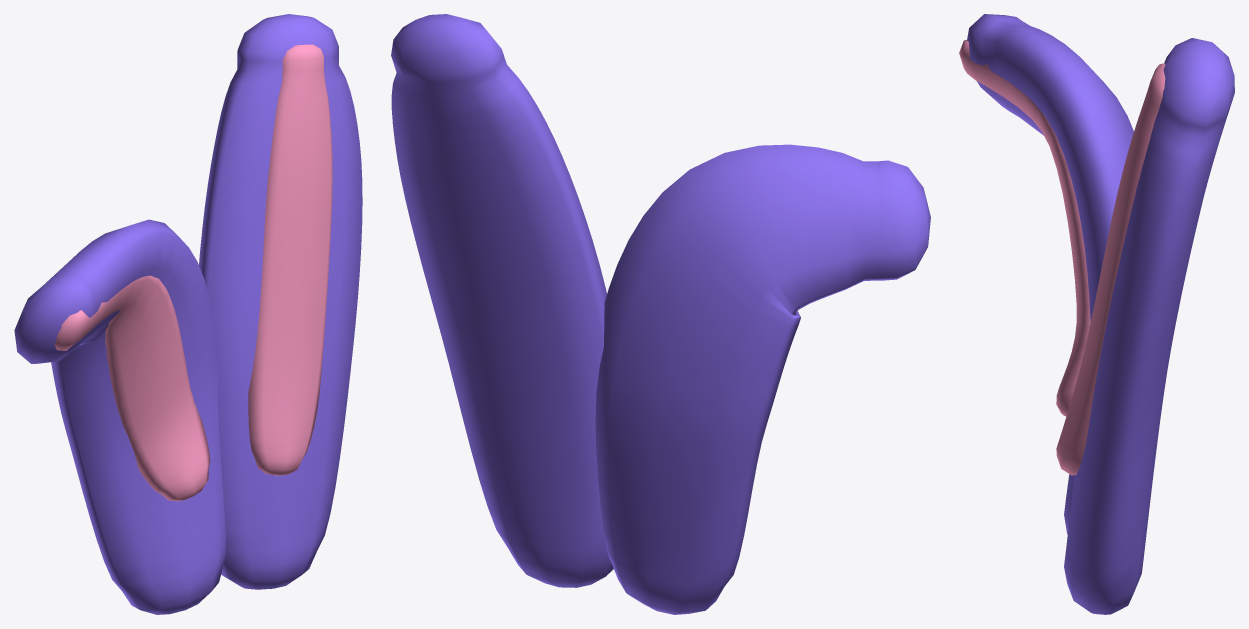
The model's file is ears-bunny.glb.
3 views of the same model, side by side, from view 1: azimuth 30°, elevation 25°; view 2: azimuth 150°, elevation 25°; view 3: azimuth 270°, elevation 25° (orthographic). The views are drawn at different scales.
Visible parts, largest first — view 1: ears-bunny-mesh; view 2: ears-bunny-mesh; view 3: ears-bunny-mesh.
Part boxes in pixels (x1,y1,x2,y2): ears-bunny-mesh: (14,14,362,614); ears-bunny-mesh: (391,14,930,614); ears-bunny-mesh: (959,14,1234,614).
Bounding box in the file's own units: 1.01 × 1.25 × 0.5279.
